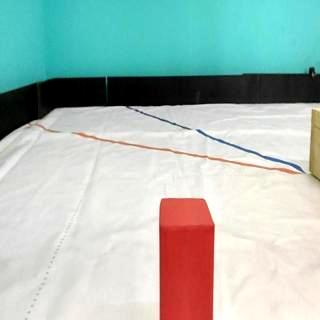redbox: (160, 199, 213, 320)
